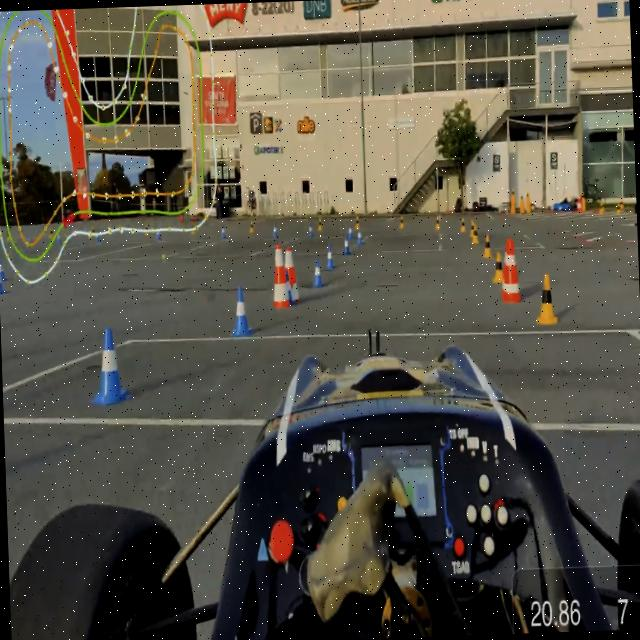blue_cone: (92, 329, 124, 406), (228, 283, 250, 341), (282, 267, 294, 307), (310, 260, 322, 290), (326, 243, 334, 271), (342, 233, 350, 256), (356, 225, 364, 248), (346, 222, 354, 240), (272, 221, 280, 239), (0, 259, 5, 286), (307, 221, 314, 239), (220, 223, 227, 240), (0, 266, 3, 298)
large_orange_cone: (500, 235, 519, 302), (272, 243, 286, 308), (286, 244, 300, 304), (576, 193, 582, 213)
yellow_cone: (533, 268, 559, 326), (492, 250, 506, 284), (482, 230, 492, 259), (471, 224, 479, 246), (468, 218, 476, 239), (434, 213, 440, 231), (398, 213, 404, 230), (460, 217, 466, 233), (354, 214, 360, 230), (317, 216, 323, 232), (190, 220, 196, 235), (248, 220, 254, 234), (510, 186, 515, 199), (526, 190, 530, 201), (520, 194, 524, 204)
